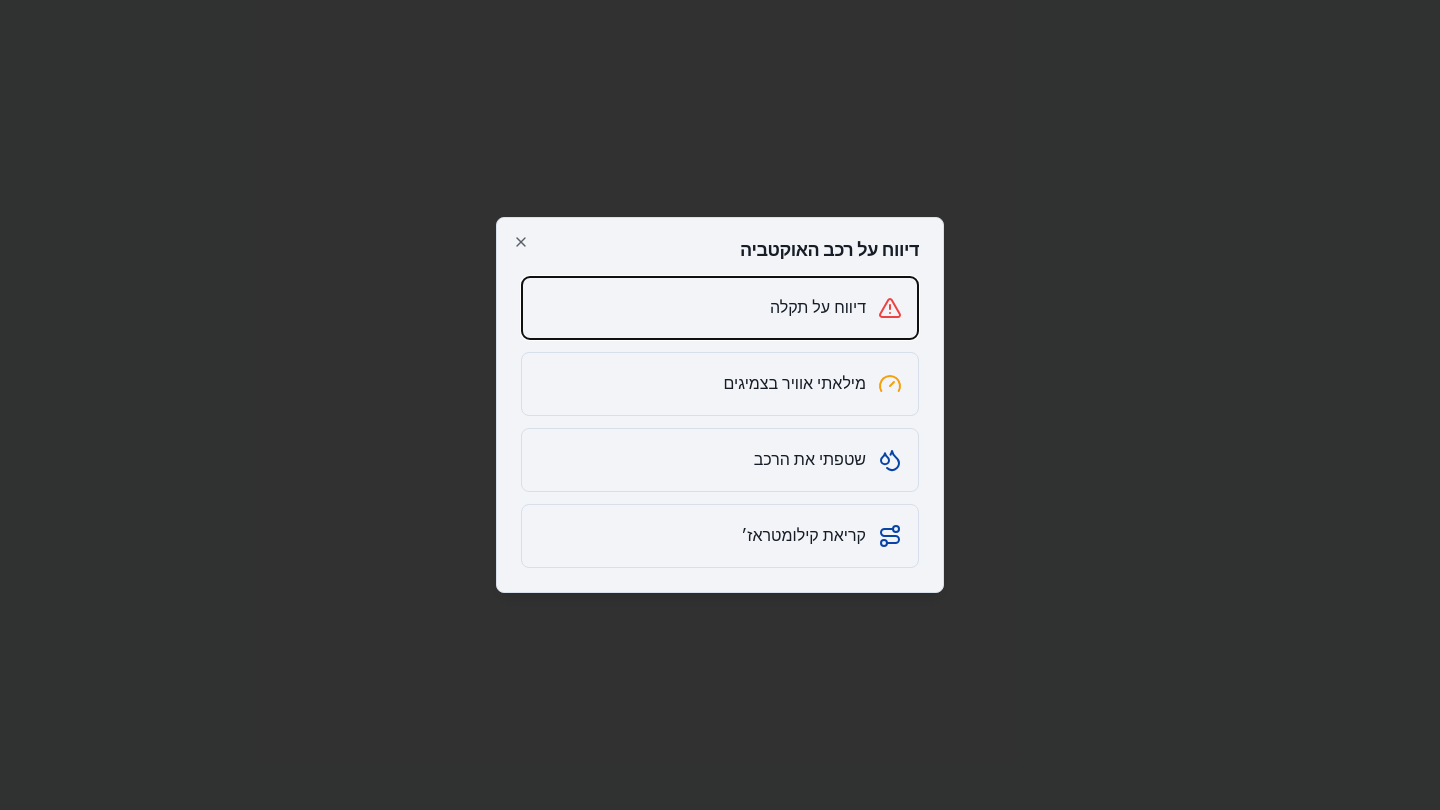
Test: CarReportDialog › submits a tire fill with the full five-position payload and an optional note
The width and height of the screenshot is (1440, 810).
Click the button "מילאתי אוויר בצמיגים" at [795, 384], box [521, 352, 919, 416]
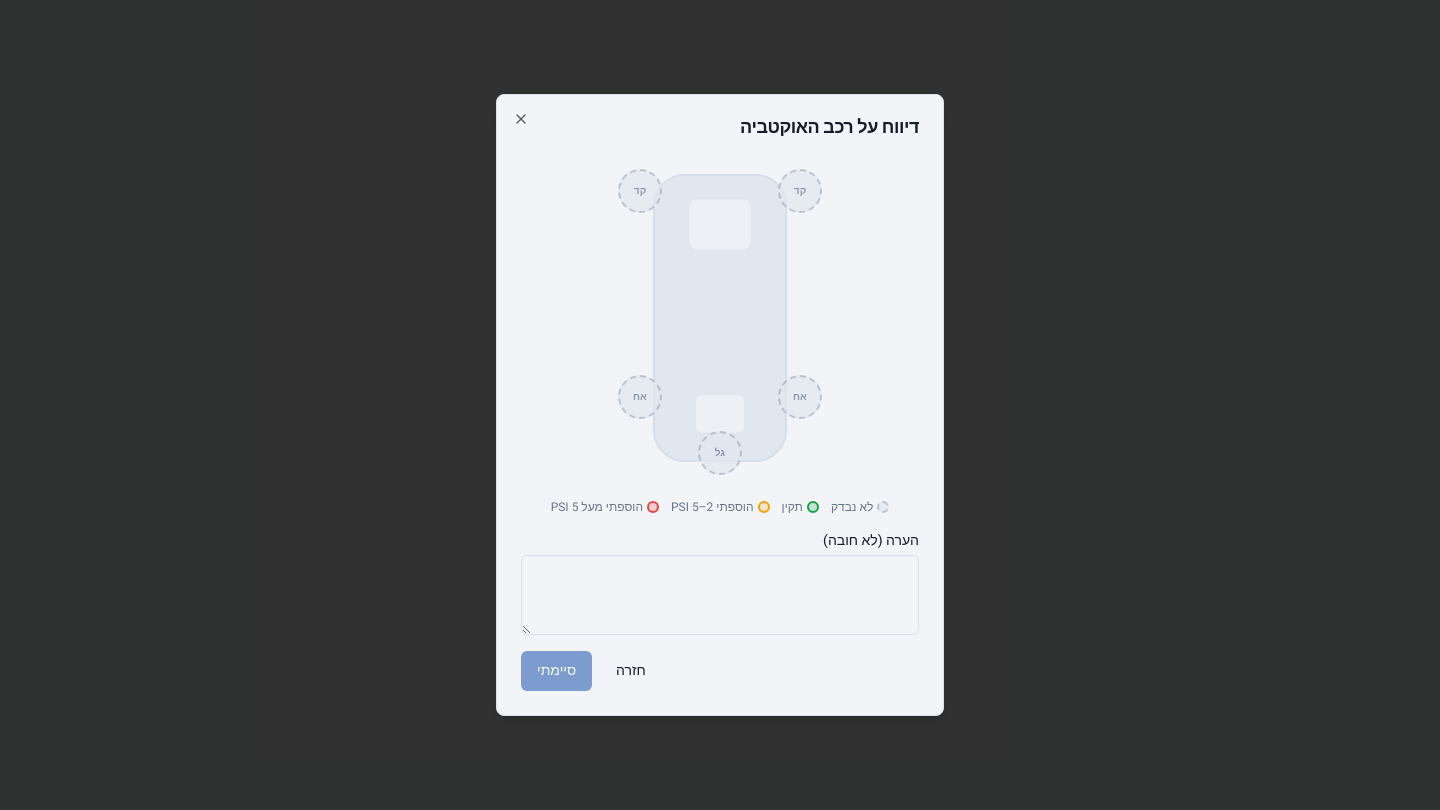
Result: the button "סיימתי" is disabled at [521, 651, 592, 691]
Click the button with test id "tire-front_left" at [800, 191], box [778, 169, 822, 213]
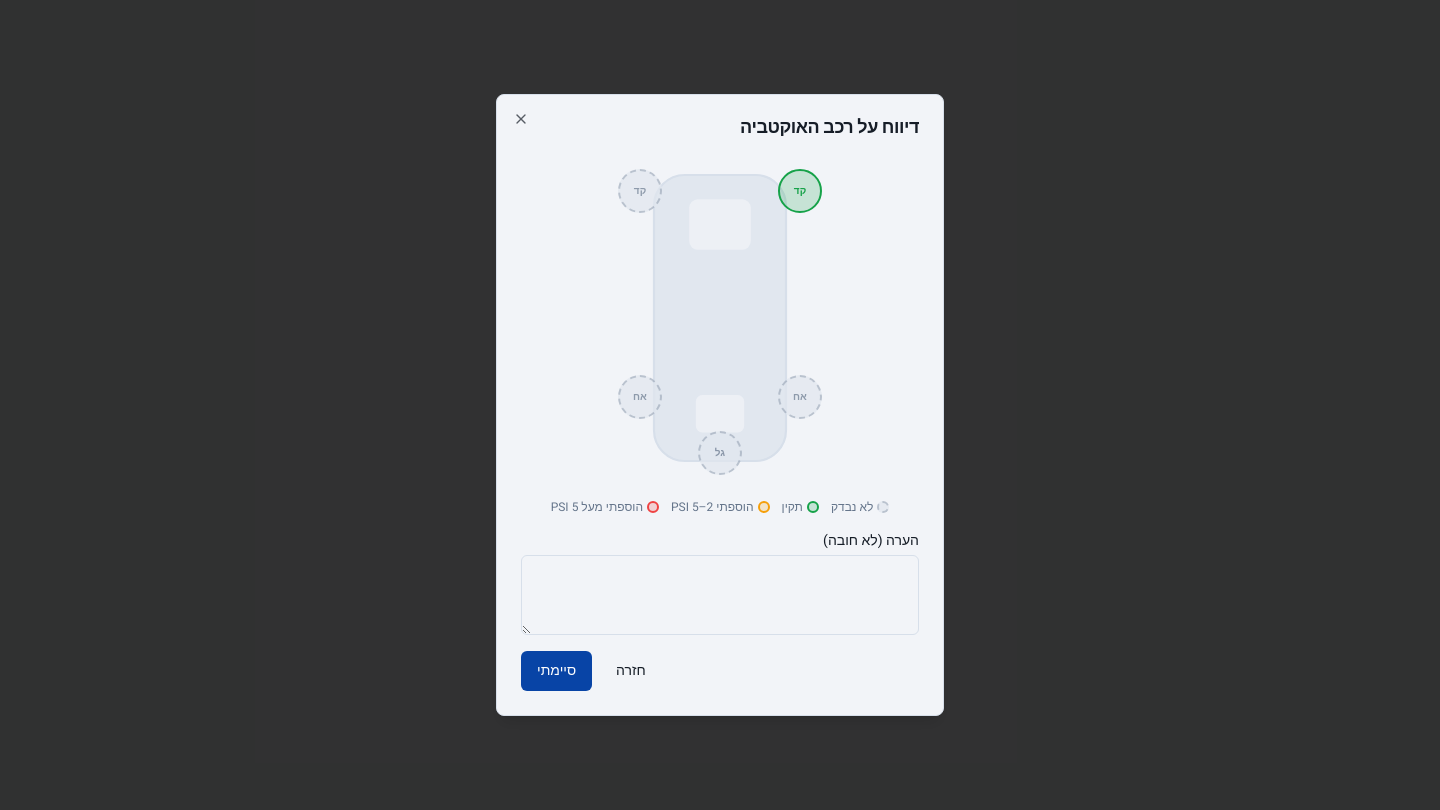
Click the button with test id "tire-front_left" at [800, 191], box [778, 169, 822, 213]
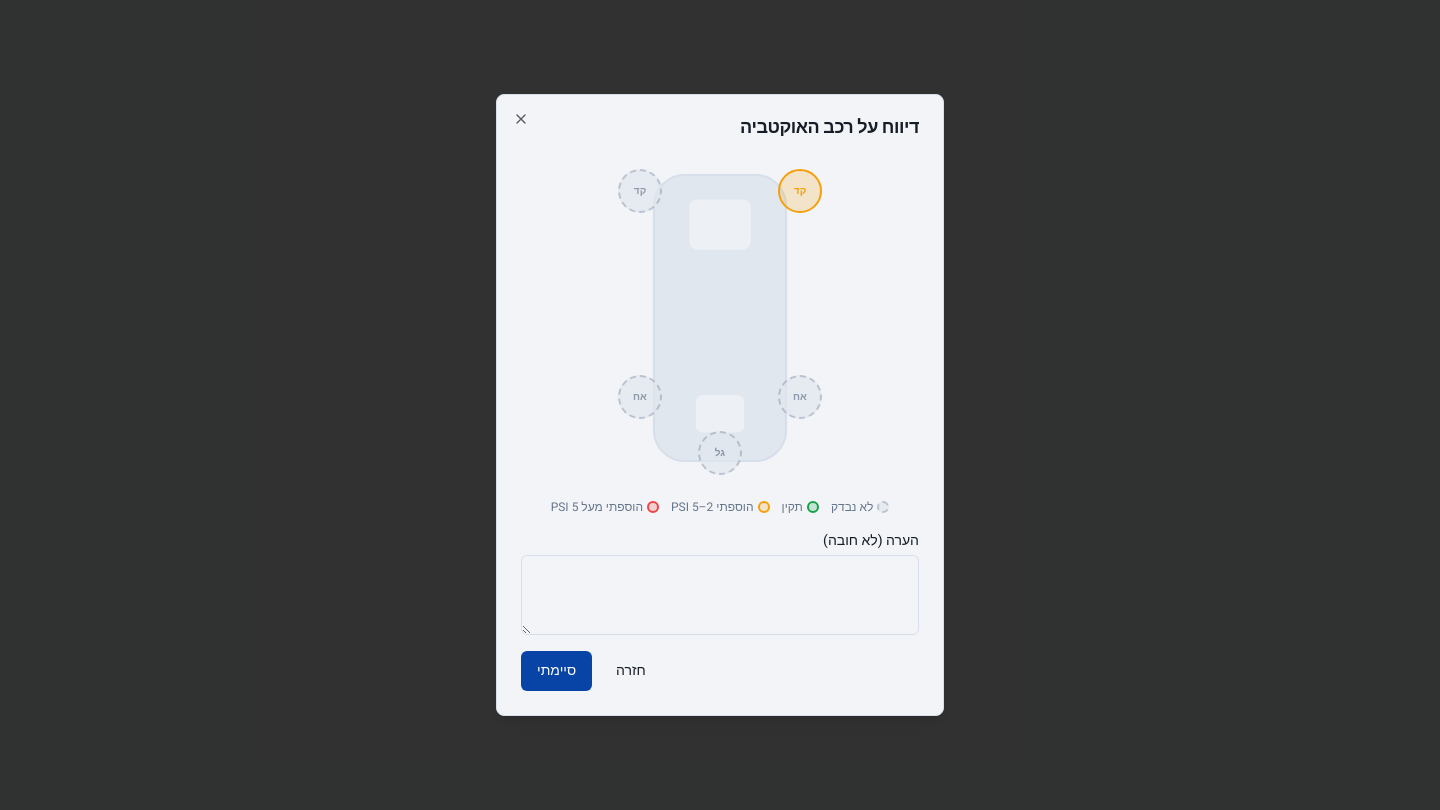
Result: the button "סיימתי" is enabled at [521, 651, 592, 691]
Type "front left was soft" into the text box labelled "הערה (לא חובה)" at [720, 595], box [521, 555, 919, 635]
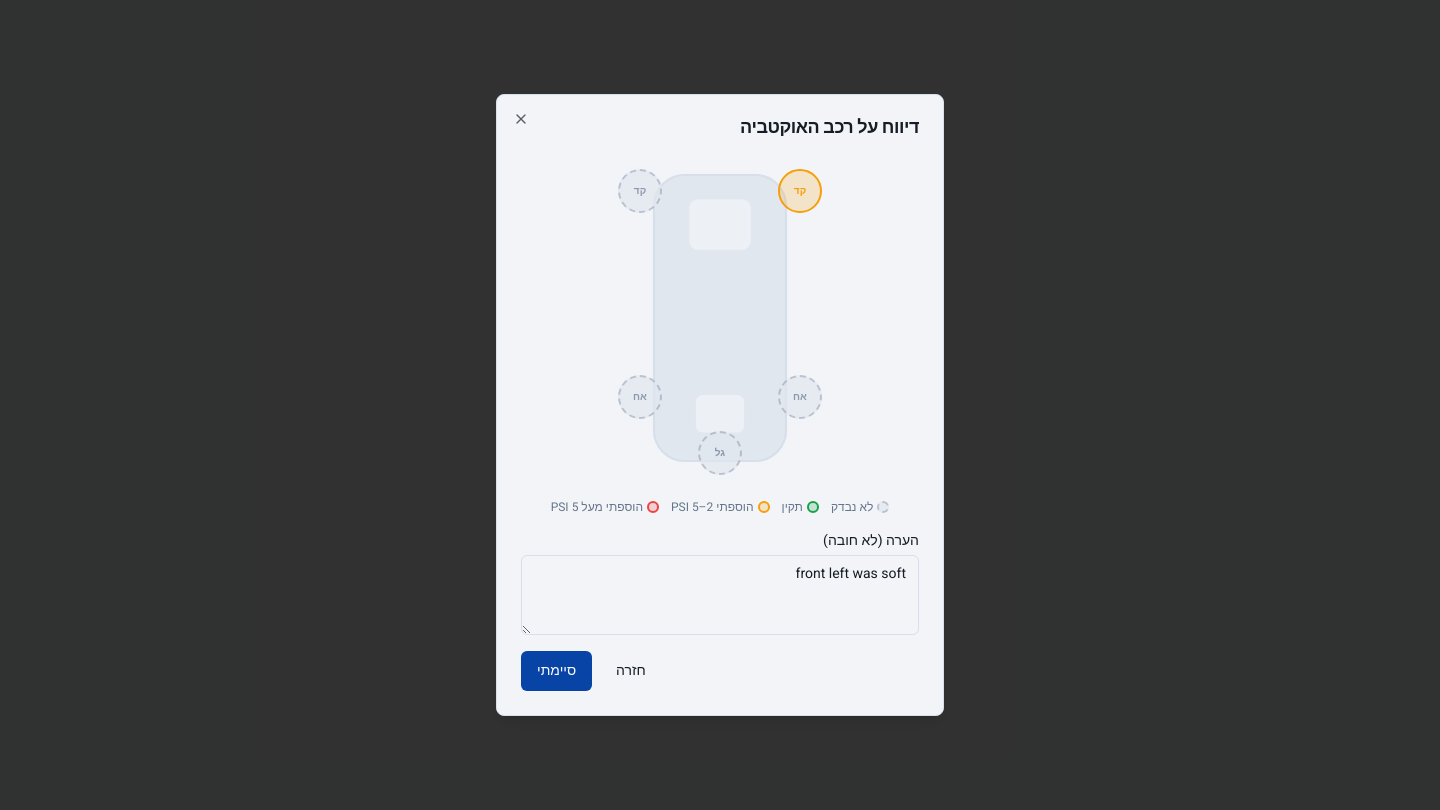
Click the button "סיימתי" at [557, 671], box [521, 651, 592, 691]
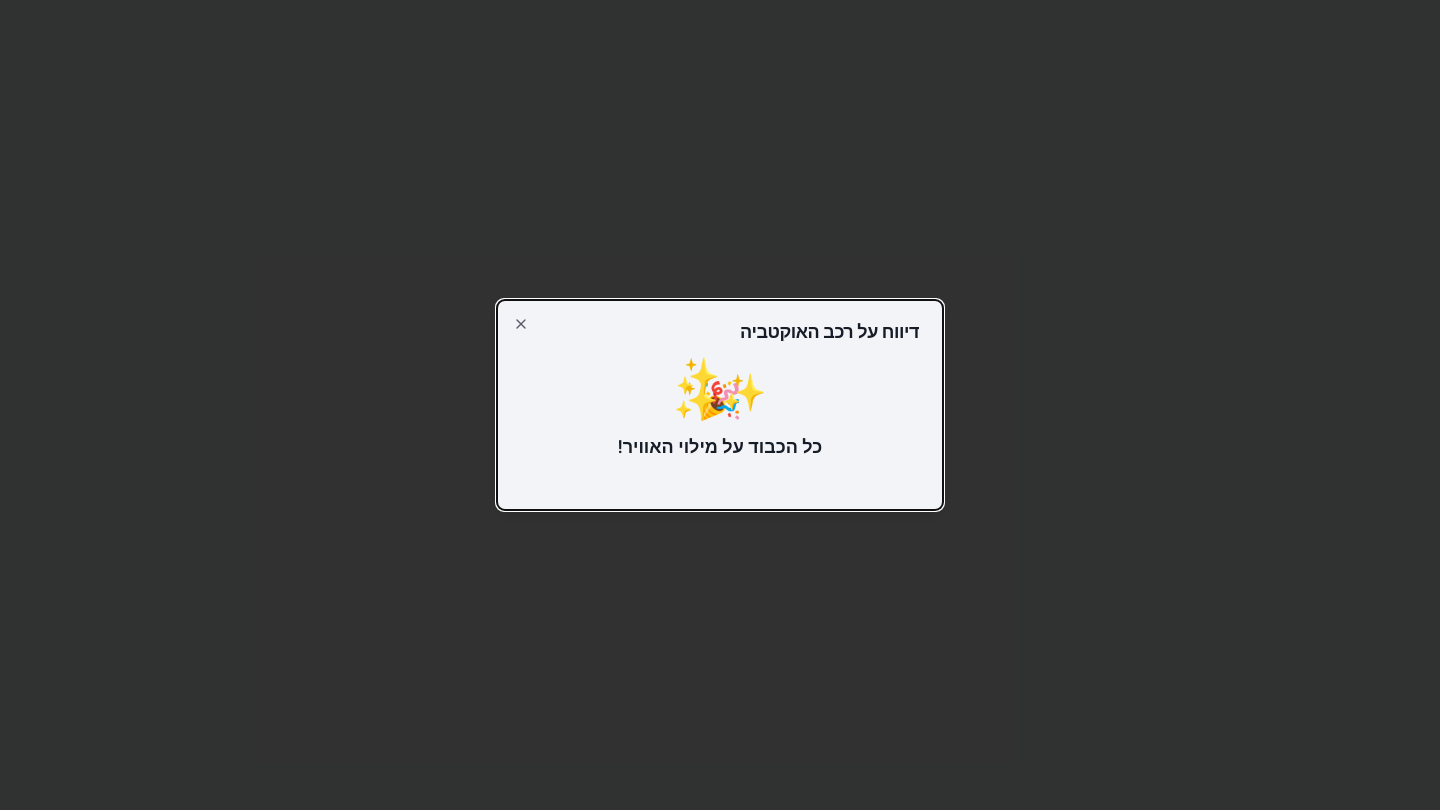
Result: the text "כל הכבוד על מילוי האוויר!" is shown at [618, 434, 822, 462]
